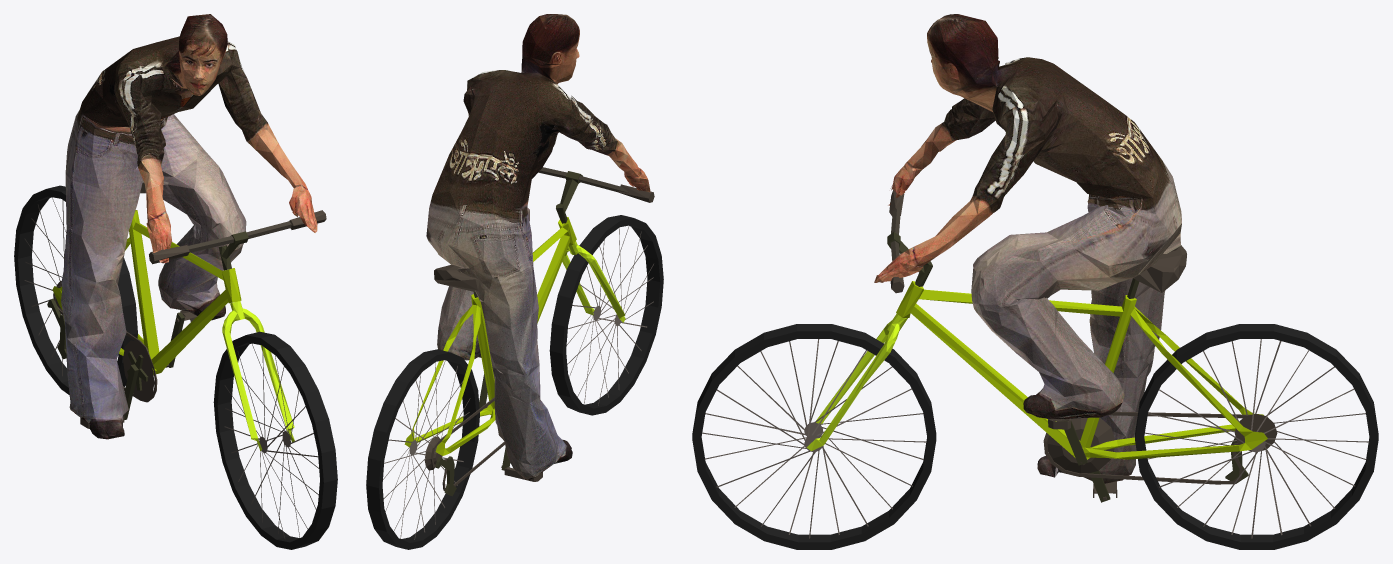
The model's file is bicycle_female_1.obj.
3 views of the same model, side by side, from view 1: azimuth 30°, elevation 25°; view 2: azimuth 150°, elevation 25°; view 3: azimuth 270°, elevation 25° (orthographic). The views are drawn at different scales.
Visible parts, largest first — view 1: StaticModelFinal, TIRE1, TREK_CUADRO1, SPOKES1, TREK_SILLIN1, TREK_HORQUILLA1, TREK_CROMO1, TREK_NEGRO_BRILL1; view 2: StaticModelFinal, TIRE1, TREK_CUADRO1, SPOKES1, TREK_SILLIN1, TREK_CROMO1, TREK_HORQUILLA1, TREK_NEGRO_BRILL1; view 3: StaticModelFinal, TIRE1, TREK_CUADRO1, SPOKES1, TREK_SILLIN1, TREK_HORQUILLA1, TREK_CROMO1.
Boxes of the visible parts, x1,y1,x2,y2 form: StaticModelFinal: [61, 14, 317, 439]; TIRE1: [14, 185, 337, 549]; TREK_CUADRO1: [52, 210, 241, 374]; SPOKES1: [24, 197, 318, 538]; TREK_SILLIN1: [53, 182, 326, 428]; TREK_HORQUILLA1: [222, 301, 294, 450]; TREK_CROMO1: [47, 231, 248, 419]; TREK_NEGRO_BRILL1: [187, 221, 291, 252]; StaticModelFinal: [426, 14, 650, 479]; TIRE1: [366, 215, 663, 549]; TREK_CUADRO1: [404, 217, 576, 455]; SPOKES1: [383, 225, 653, 539]; TREK_SILLIN1: [424, 184, 654, 490]; TREK_CROMO1: [435, 171, 582, 496]; TREK_HORQUILLA1: [562, 241, 625, 322]; TREK_NEGRO_BRILL1: [538, 167, 630, 193]; StaticModelFinal: [874, 14, 1181, 483]; TIRE1: [692, 324, 1378, 549]; TREK_CUADRO1: [896, 281, 1267, 459]; SPOKES1: [702, 339, 1369, 538]; TREK_SILLIN1: [889, 190, 1277, 499]; TREK_HORQUILLA1: [806, 314, 907, 450]; TREK_CROMO1: [887, 232, 1248, 502].
Bounding box in the file's own units: 0.566 × 1.49 × 1.76.
